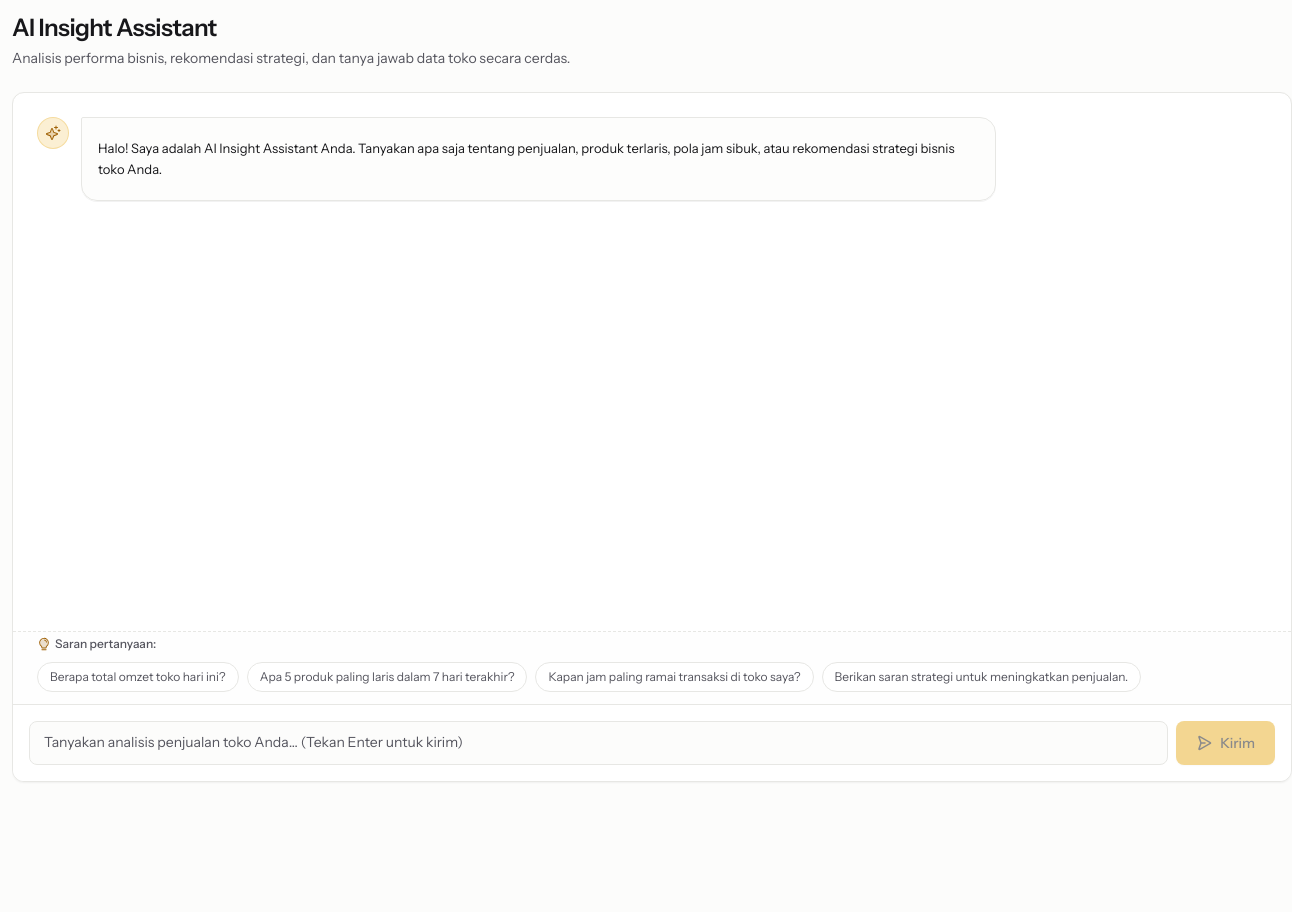
Test: AiInsightView › sends message when clicking a suggested prompt chip
The width and height of the screenshot is (1292, 912).
Click the button "Berapa total omzet toko hari ini?" at (138, 677), box left=37, top=662, right=239, bottom=692
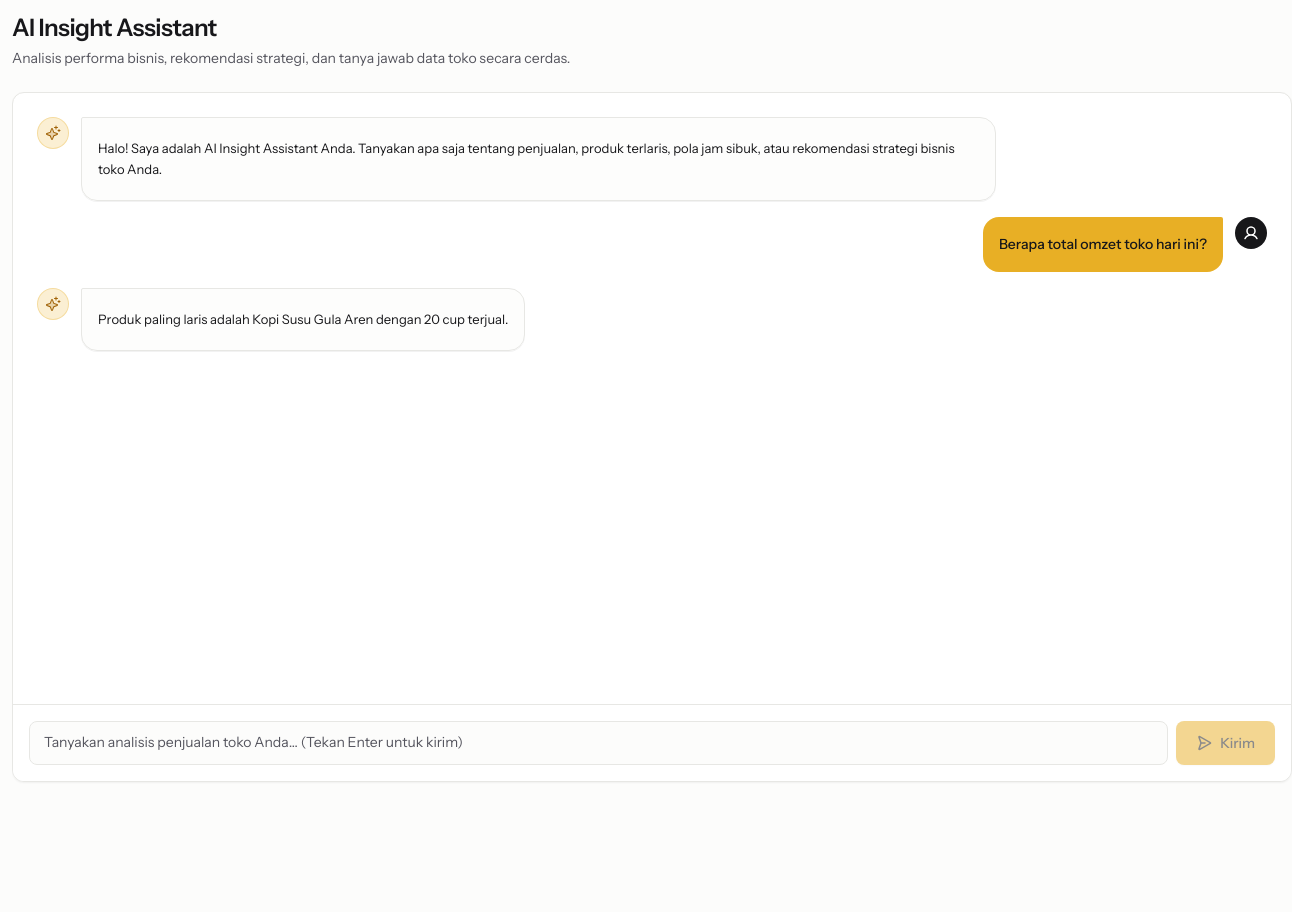
Now the text "Produk paling laris adalah Kopi Susu Gula Aren dengan 20 cup terjual." is shown, box left=98, top=309, right=508, bottom=330
